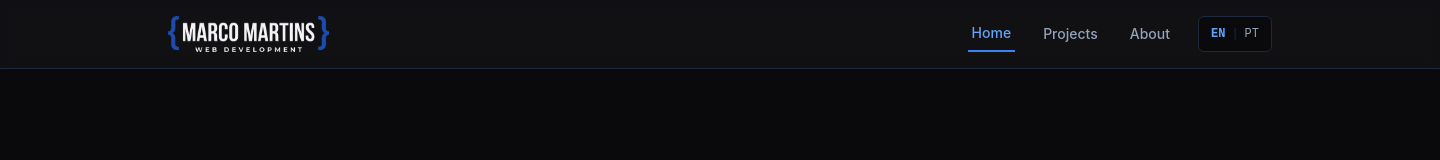
Test: Navbar › marks the active route link with aria-current="page"
Click the link "Projects" at (1070, 34), box [1043,25,1098,42]
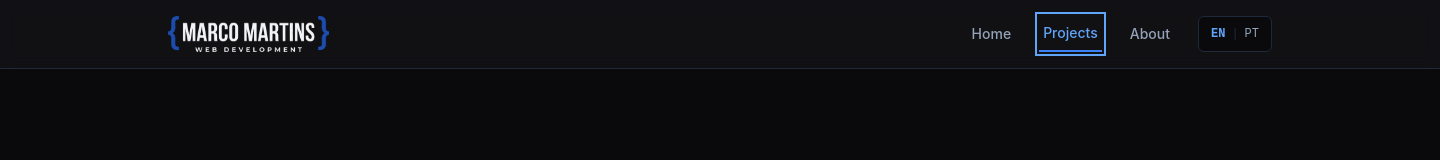
Result: the link "Projects" is marked as current at [1039,16,1102,52]
Result: the link "Home" does not have attribute aria-current="page" at [972,25,1011,42]
